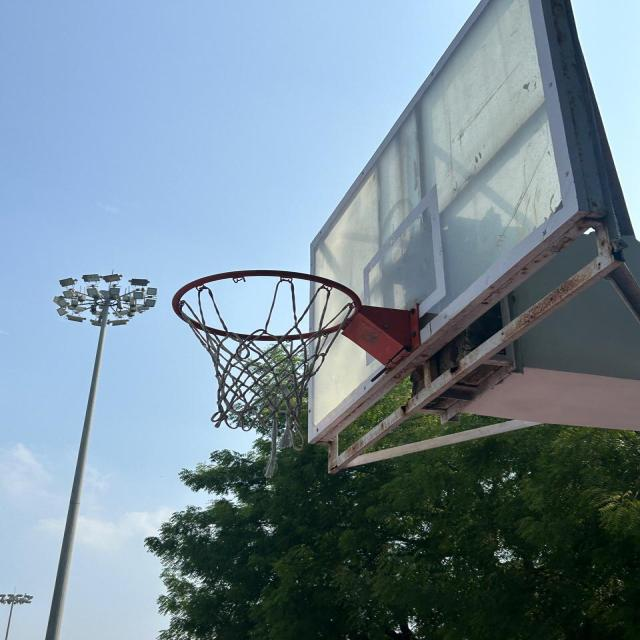hoop: (169, 261, 412, 446)
